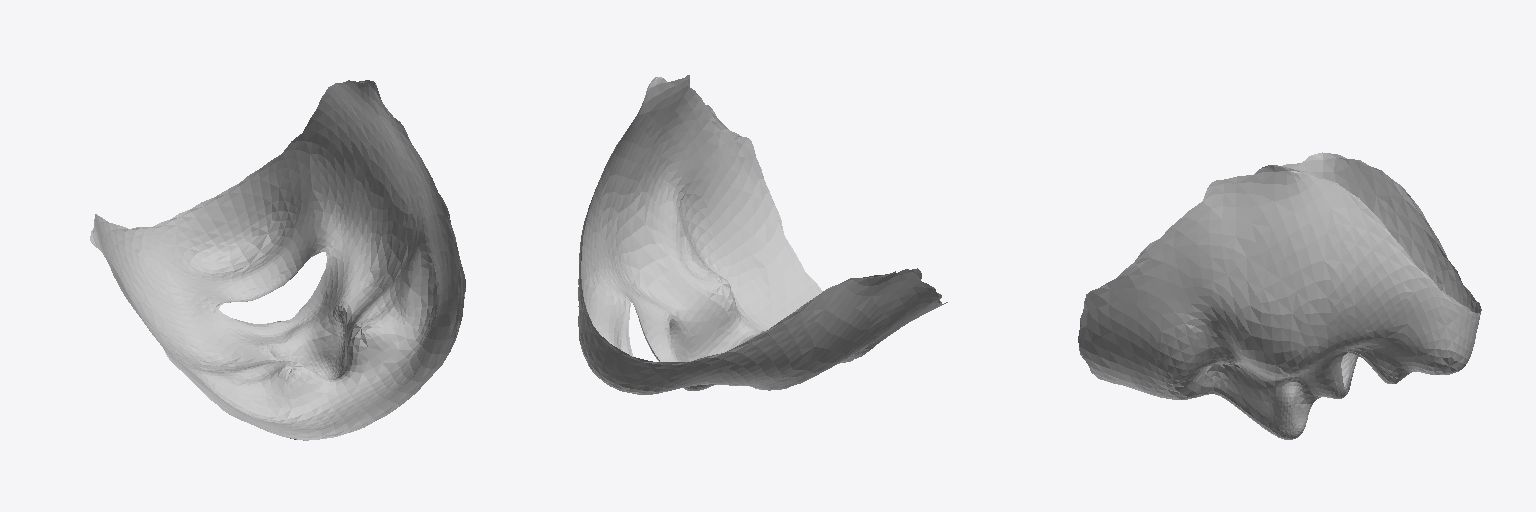
Rendered from face_gab_sfm89.obj.
3 renders of one model, left to right at view 1: azimuth 30°, elevation 25°; view 2: azimuth 150°, elevation 25°; view 3: azimuth 270°, elevation 25°, orthographic.
Bounding box in the file's own units: 166 × 163 × 202.